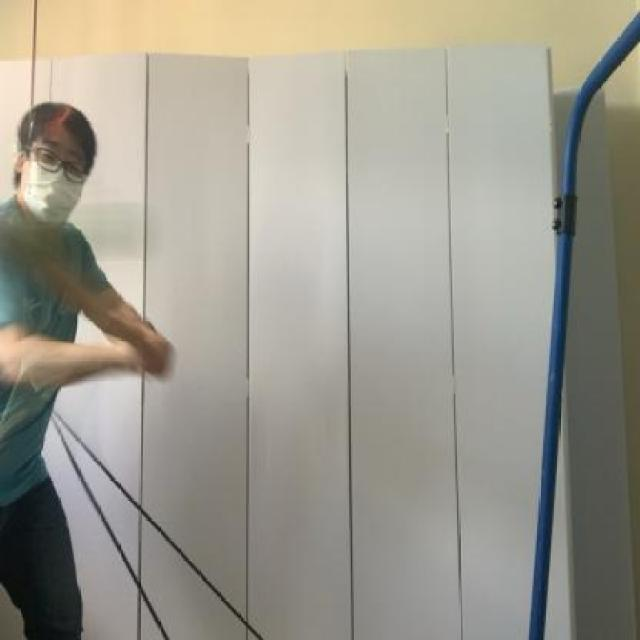baseball: (4, 187, 150, 281)
